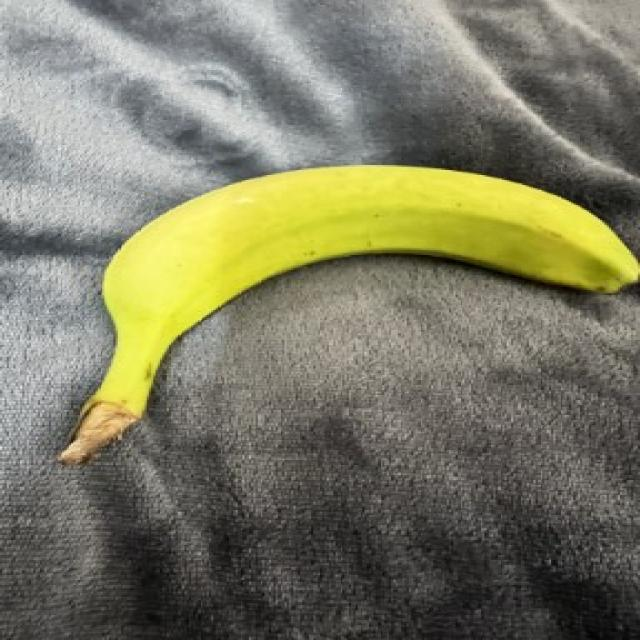Unripe: (56, 118, 640, 490)
